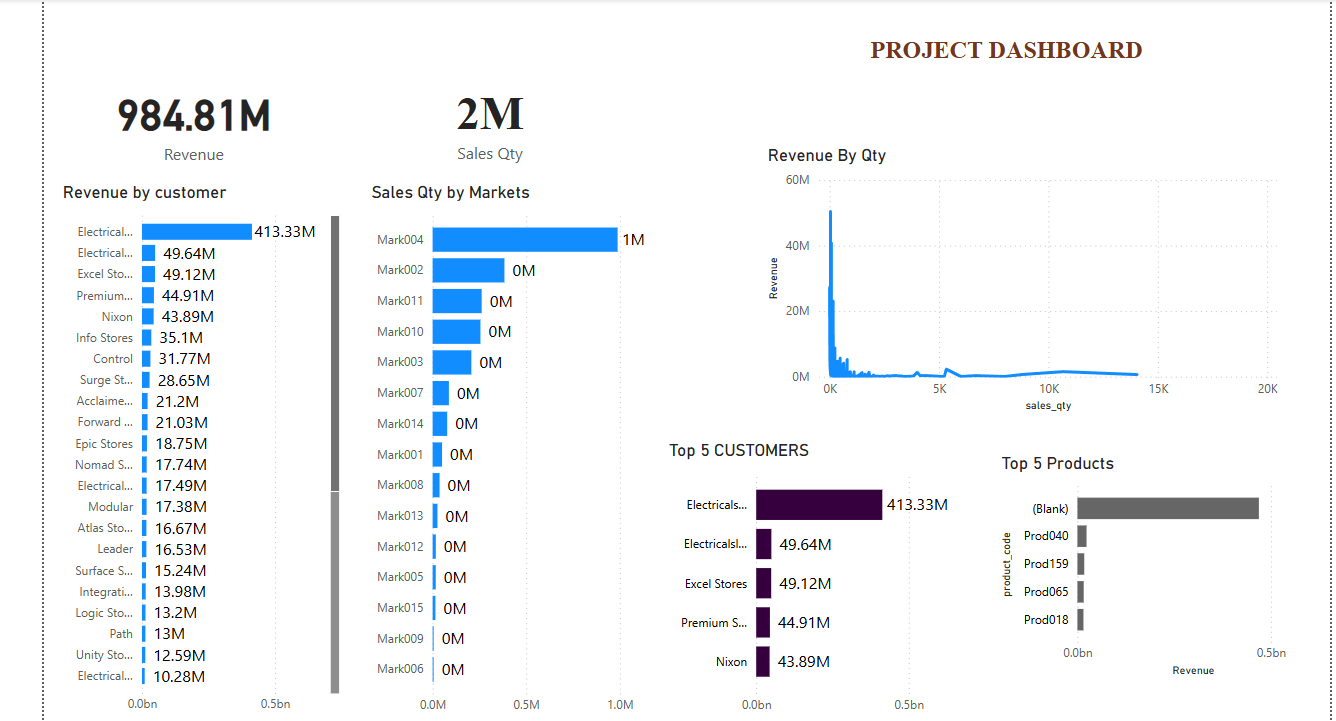

What the dashboard file says about the page in this screenshot:
{"tool":"powerbi","page":{"name":"Page 1","canvas":[1280,720],"ordinal":0},"visuals":[{"type":"card","fields":{"Values":["BaseMeasures.Revenue"]},"box":[13.7,0,271.2,243.8],"z":0},{"type":"card","fields":{"Values":["BaseMeasures.Sales Qty"]},"box":[301,7.5,286.1,227.6],"z":1000},{"type":"barChart","title":"Revenue by customer","fields":{"Y":["BaseMeasures.Revenue"],"Category":["sales customers.custmer_name"]},"box":[13.7,181.6,284.9,538.6],"z":2000},{"type":"barChart","title":"Sales Qty by Markets","fields":{"Y":["BaseMeasures.Sales Qty"],"Category":["sales transactions.market_code"]},"box":[321.1,181.1,296.4,539.3],"z":3000},{"type":"barChart","title":"Top 5 CUSTOMERS","fields":{"Y":["BaseMeasures.Revenue"],"Category":["sales customers.custmer_name"]},"box":[617.5,439.1,303.3,281.3],"z":4000},{"type":"barChart","title":"Top 5 Products","fields":{"Category":["sales products.product_code"],"Y":["BaseMeasures.Revenue"]},"box":[948.2,451.5,332.1,227.8],"z":5000},{"type":"lineChart","title":"Revenue By Qty","fields":{"Category":["sales transactions.sales_qty"],"Y":["BaseMeasures.Revenue"]},"box":[714.9,145.5,517.3,270.3],"z":5001},{"type":"textbox","box":[670.5,32.3,580.9,57.2],"z":5002}]}

Visuals, with their boxes on the page's 1280x720 design canvas (x1, y1, x2, y2). These are canvas units, not pixel positions in the 1336x721 screenshot, which may show the page scaled, cropped or inside an application window:
card - BaseMeasures.Revenue: rect(14, 0, 285, 244)
card - BaseMeasures.Sales Qty: rect(301, 8, 587, 235)
"Revenue by customer" barChart: rect(14, 182, 299, 720)
"Sales Qty by Markets" barChart: rect(321, 181, 618, 720)
"Top 5 CUSTOMERS" barChart: rect(618, 439, 921, 720)
"Top 5 Products" barChart: rect(948, 452, 1280, 679)
"Revenue By Qty" lineChart: rect(715, 146, 1232, 416)
textbox: rect(670, 32, 1251, 90)
